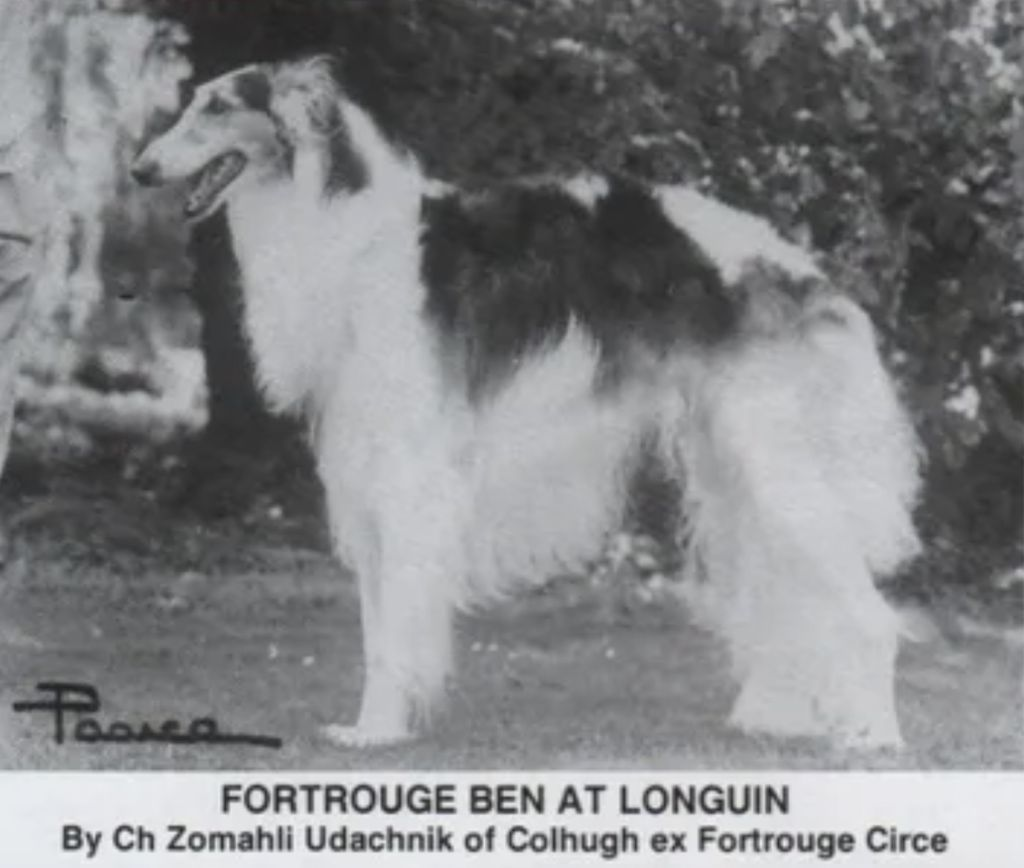borzoi: (127, 51, 954, 739)
